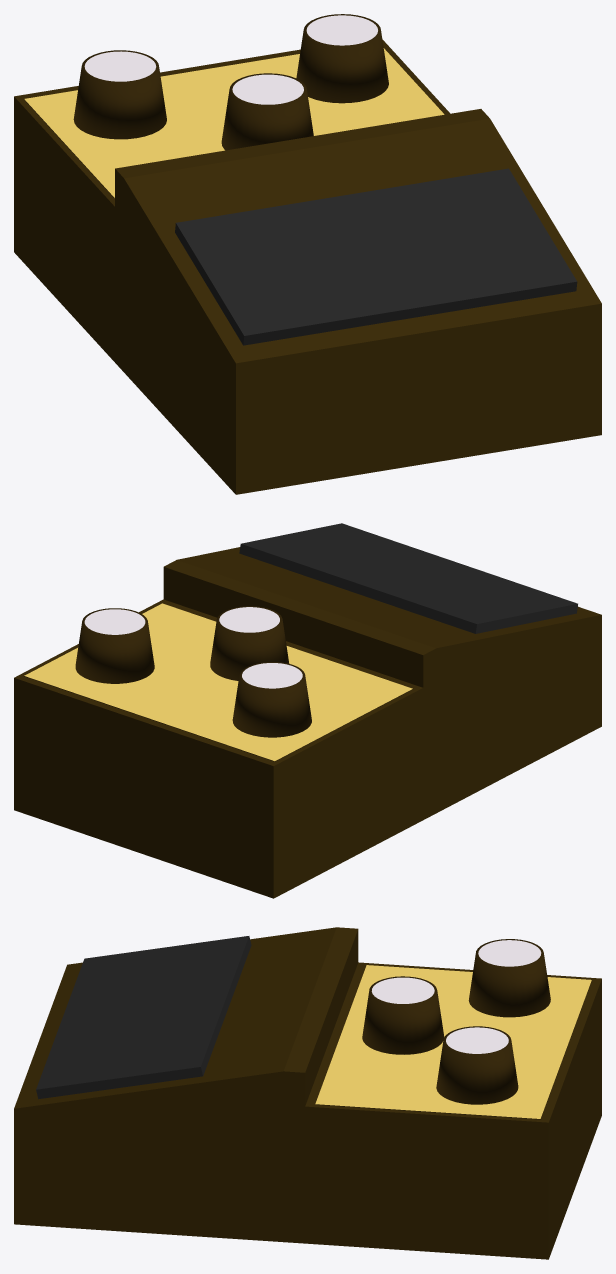
File: pedal3.glb
The picture shows the model from 3 angles, top to bottom: view 1: azimuth 30°, elevation 25°; view 2: azimuth 150°, elevation 25°; view 3: azimuth 270°, elevation 25°; orthographic projection. The views are drawn at different scales.
Visible parts, largest first — view 1: pedal1; view 2: pedal1; view 3: pedal1.
Boxes of the visible parts, x1,y1,x2,y2 form: pedal1: (14, 14, 601, 494); pedal1: (14, 523, 601, 898); pedal1: (14, 927, 601, 1259).
Bounding box in the file's own units: 0.435 × 0.2096 × 0.6027.
